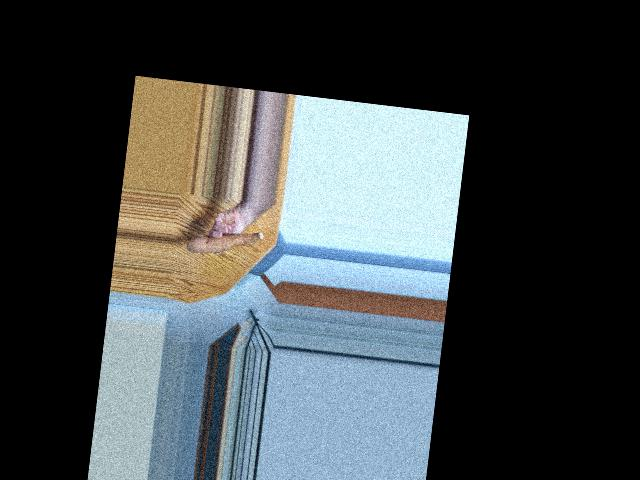sweet_potato: (188, 223, 261, 264)
